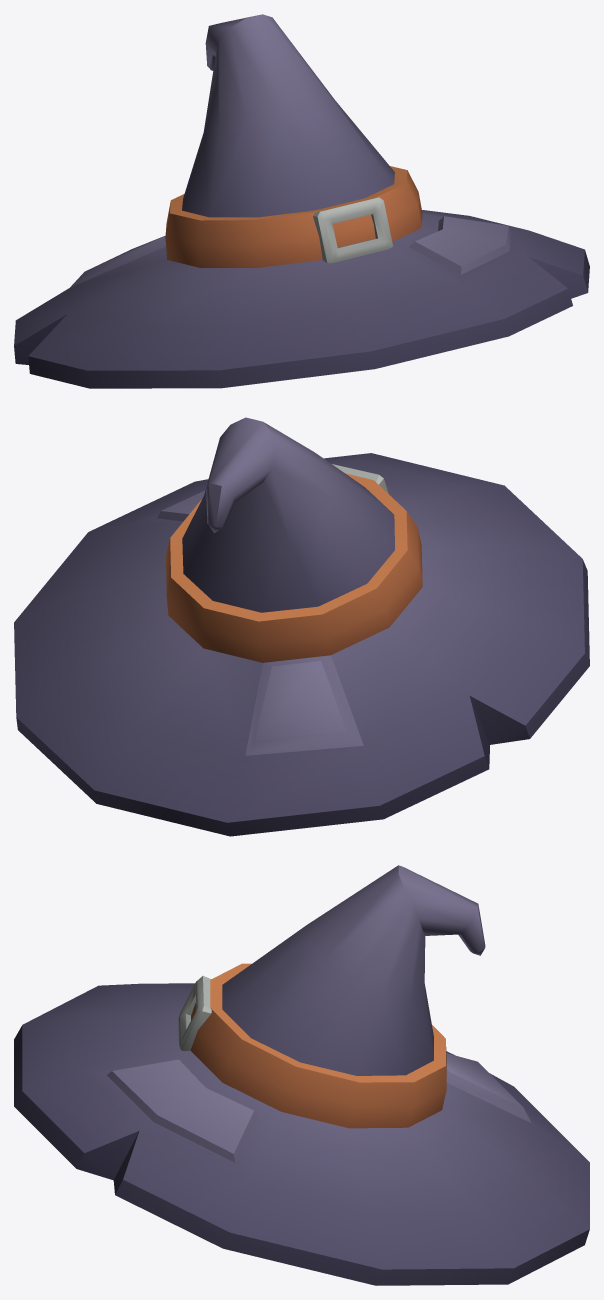
The model's file is Mage_Hat.glb.
3 views of the same model, one above another, from view 1: azimuth 30°, elevation 25°; view 2: azimuth 150°, elevation 25°; view 3: azimuth 270°, elevation 25° (orthographic). The views are drawn at different scales.
Visible parts, largest first — view 1: Mage_Hat; view 2: Mage_Hat; view 3: Mage_Hat.
Boxes of the visible parts, x1,y1,x2,y2 form: Mage_Hat: [14, 14, 589, 388]; Mage_Hat: [14, 417, 589, 836]; Mage_Hat: [14, 865, 589, 1285].
Size of the model in its own units: 0.7044 by 0.45 by 0.6865.
Materials: 1 (1 with a texture image).
